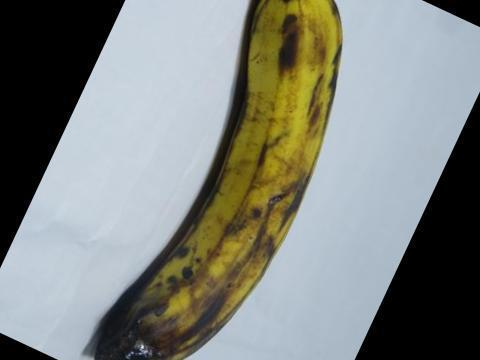overripe: (82, 0, 348, 359)
rotten: (82, 278, 267, 359)
